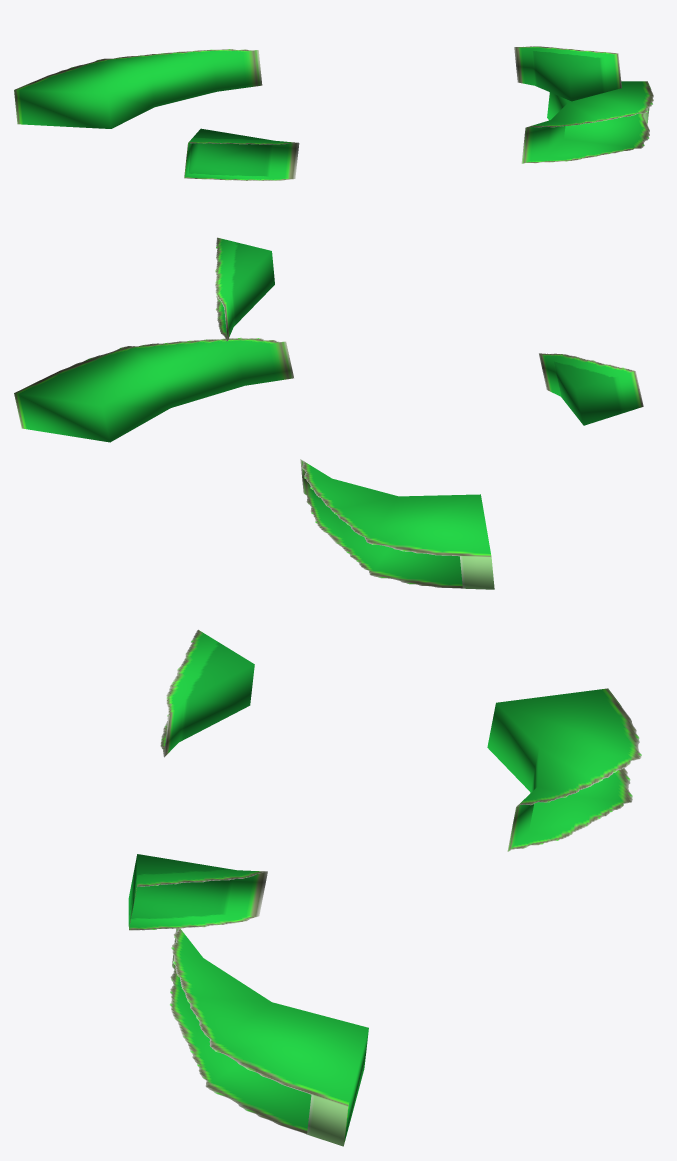
The model's file is OnionCut.02.fbx.
3 views of the same model, one above another, from view 1: azimuth 30°, elevation 25°; view 2: azimuth 150°, elevation 25°; view 3: azimuth 270°, elevation 25° (orthographic). The views are drawn at different scales.
Visible parts, largest first — view 1: OnionCut.02; view 2: OnionCut.02; view 3: OnionCut.02.
Part boxes in pixels (x1,y1,x2,y2): OnionCut.02: [14, 46, 653, 180]; OnionCut.02: [14, 237, 643, 589]; OnionCut.02: [128, 629, 641, 1146].
Size of the model in its own units: 33.07 by 8.5 by 25.89.
